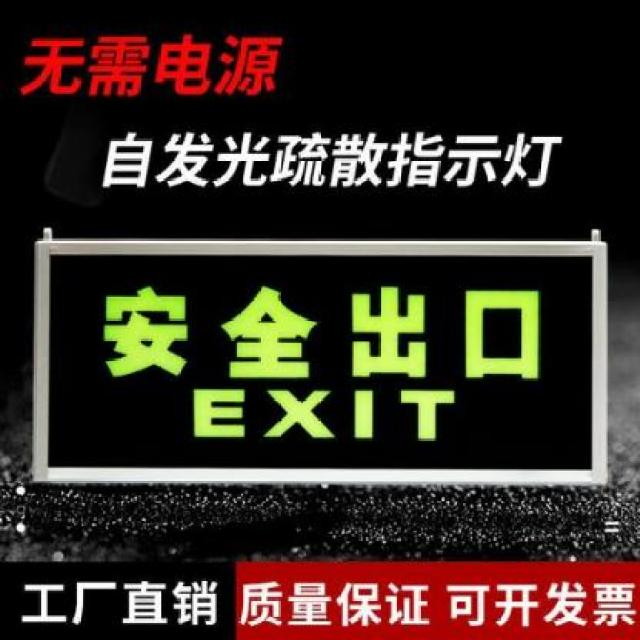exit_sign: (42, 244, 593, 473)
